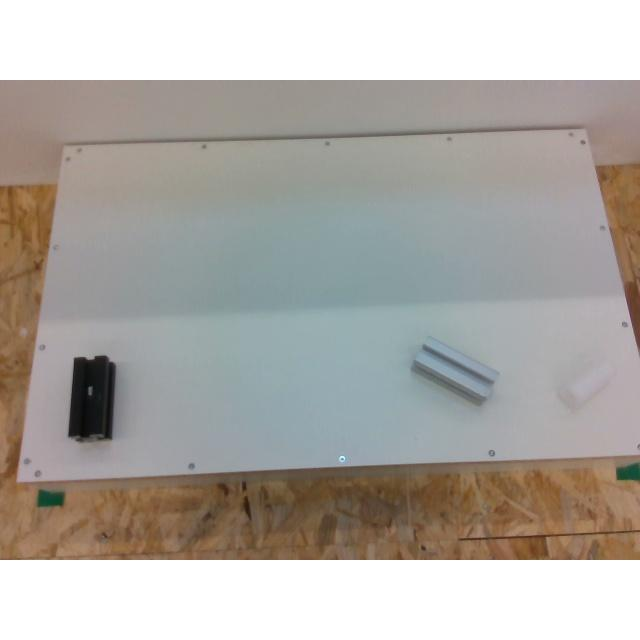S40_40_B: (68, 356, 115, 440)
S40_40_G: (413, 336, 499, 404)
Spacer: (558, 359, 614, 411)
